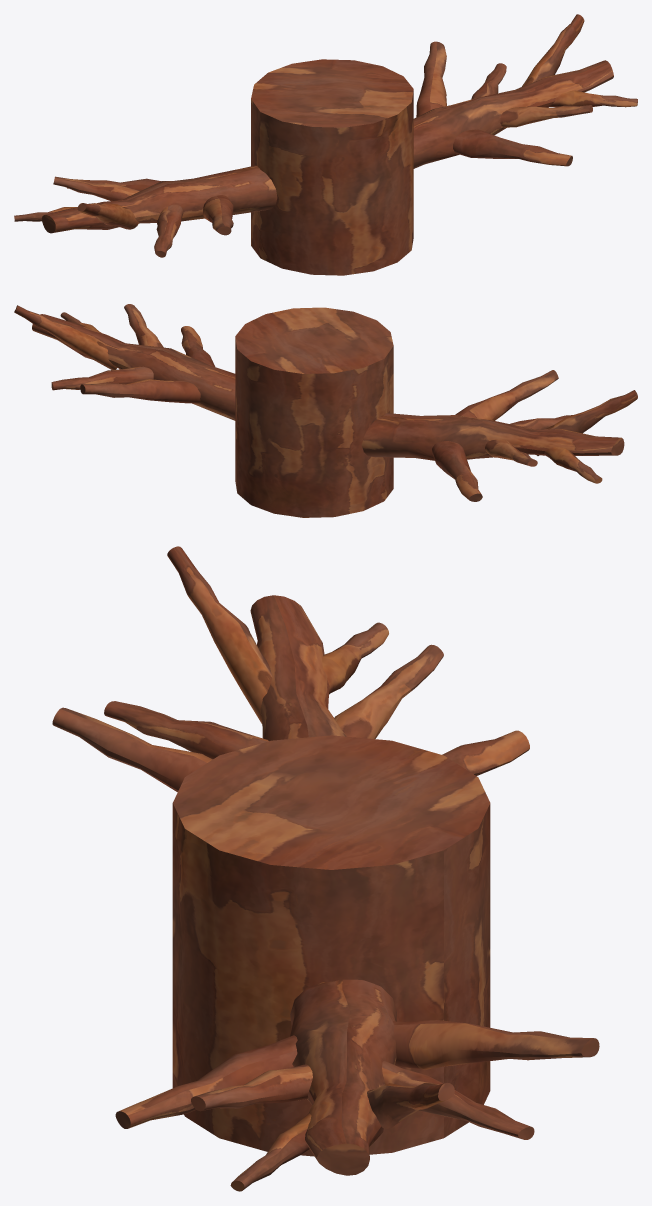
File: TwoBranchTrunk.fbx
3 renders of one model, top to bottom at view 1: azimuth 30°, elevation 25°; view 2: azimuth 150°, elevation 25°; view 3: azimuth 270°, elevation 25°, orthographic. The views are drawn at different scales.
Visible parts, largest first — view 1: DueRami; view 2: DueRami; view 3: DueRami.
Part boxes in pixels (x1,y1,x2,y2): DueRami: [14, 14, 637, 275]; DueRami: [14, 304, 637, 517]; DueRami: [52, 546, 599, 1191].
Size of the model in its own units: 835 by 200 by 344.
